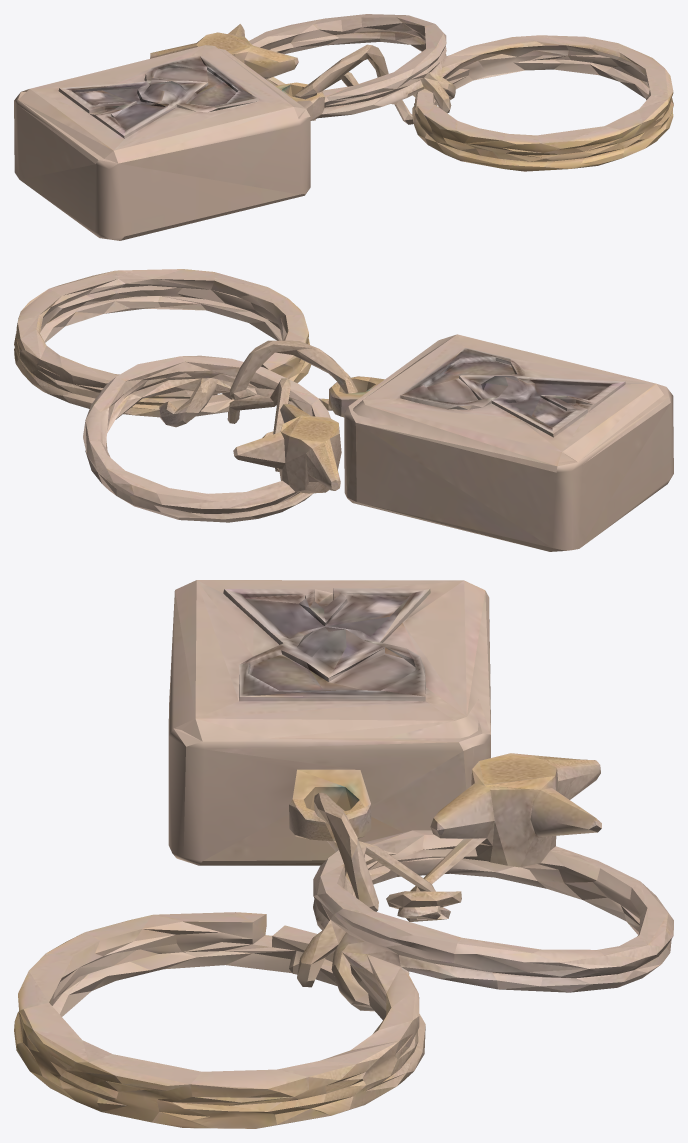
3 renders of one model, top to bottom at view 1: azimuth 30°, elevation 25°; view 2: azimuth 150°, elevation 25°; view 3: azimuth 270°, elevation 25°, orthographic. The views are drawn at different scales.
Bounding box in the file's own units: 1 × 0.1716 × 0.6345.
Materials: 1 (1 with a texture image).
